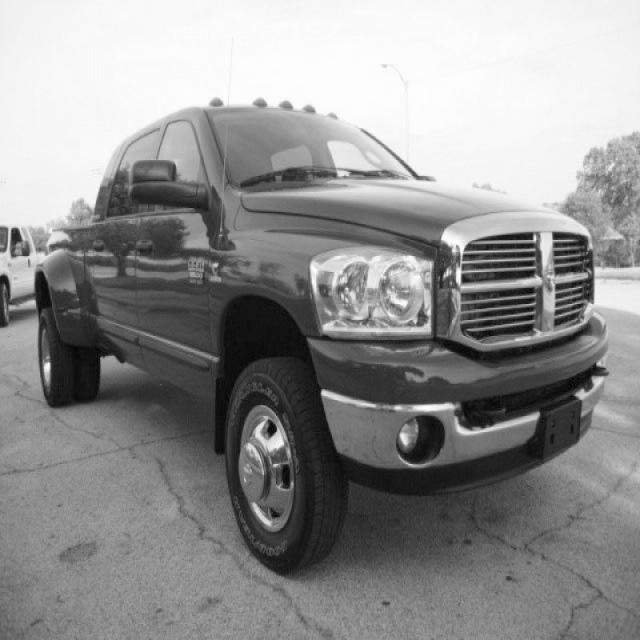car: (33, 95, 609, 576), (0, 222, 39, 326)
